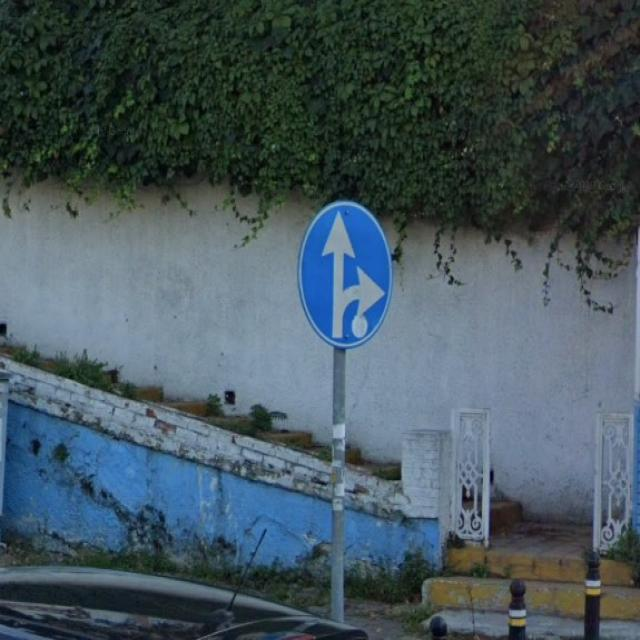ilerisag: (298, 201, 392, 349)
